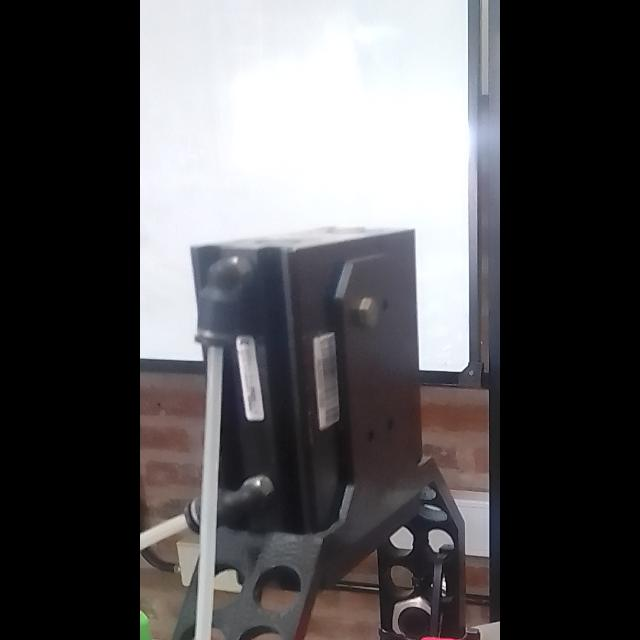redBox: (364, 622, 500, 640)
